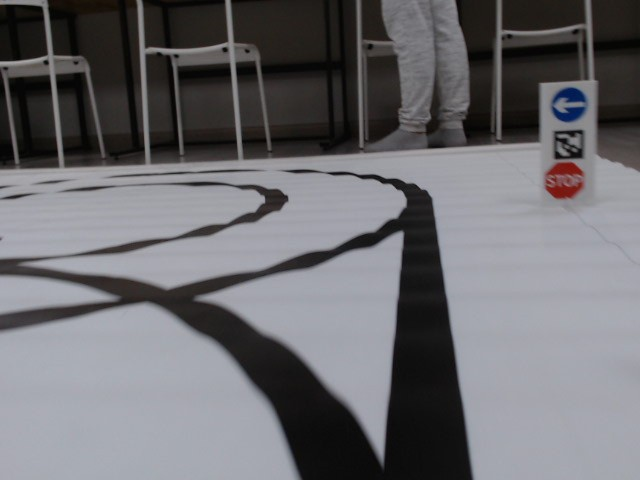Stop: (542, 162, 586, 198)
